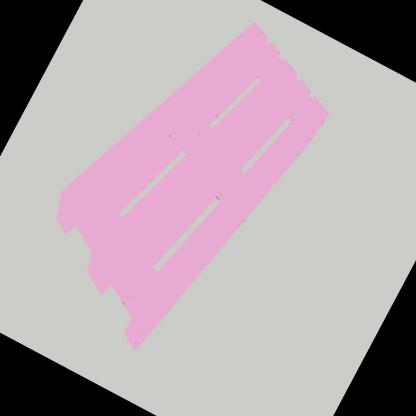BoxFace: (50, 14, 335, 358)
